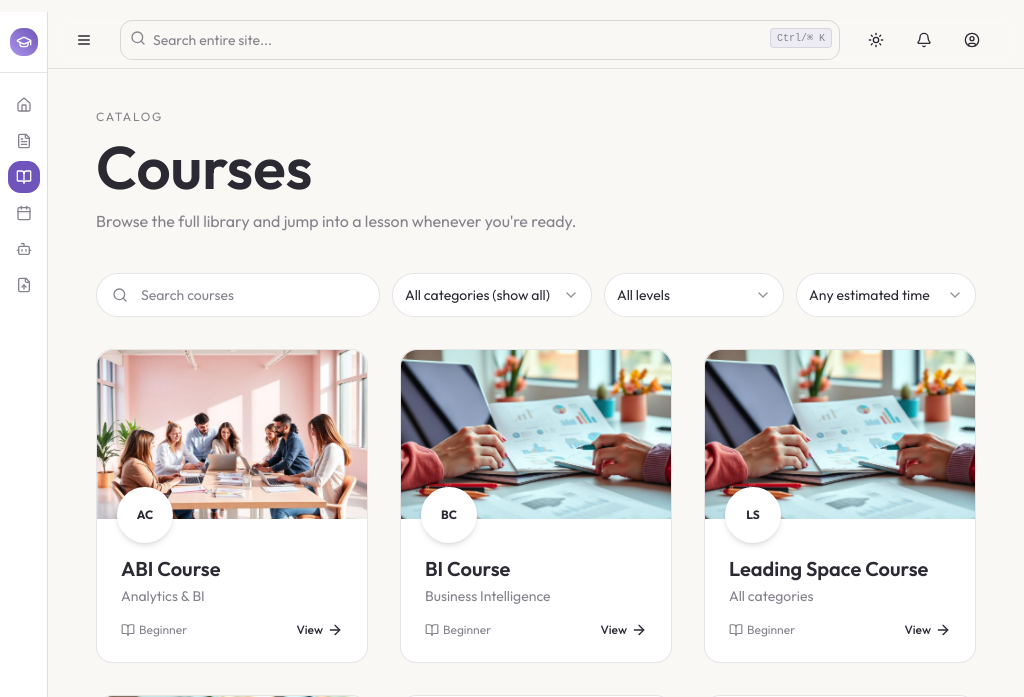
Test: category menu names are unique after whitespace normalization › without a group entry: the tabbed group caption reads plain; the other whitespace variants stay told apart
The image size is (1024, 697).
Click the dropdown named "Category".
click(492, 295)  # box x1=392 y1=273 x2=592 y2=317
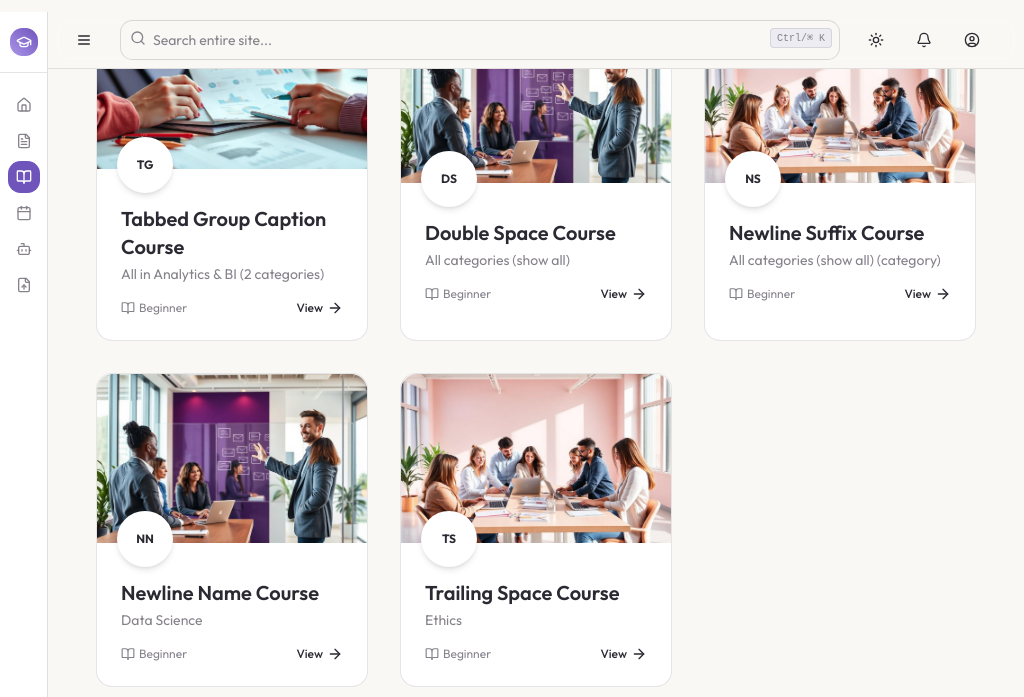
Check: the text "All in Analytics & BI (2 categories)" is shown, box x1=121 y1=264 x2=343 y2=284
Check: the text "All categories (show all) (category)" is shown, box x1=729 y1=250 x2=951 y2=270
Check: the text "Data Science" is shown, box x1=121 y1=611 x2=202 y2=629
